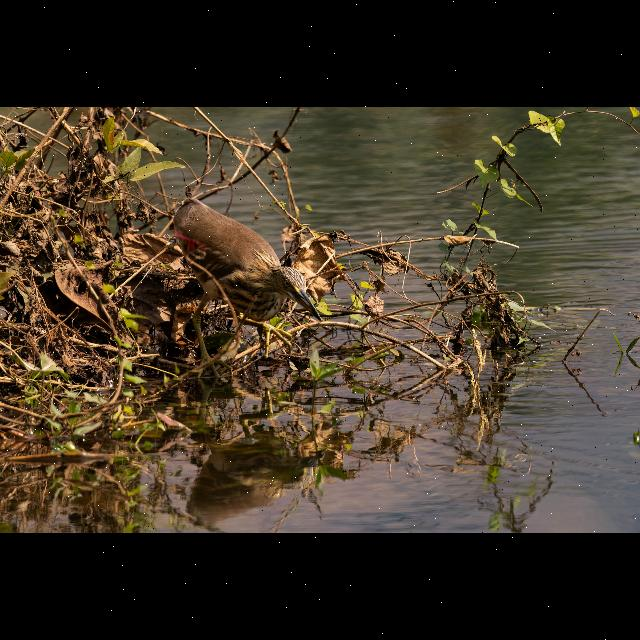heron: (162, 191, 326, 331)
